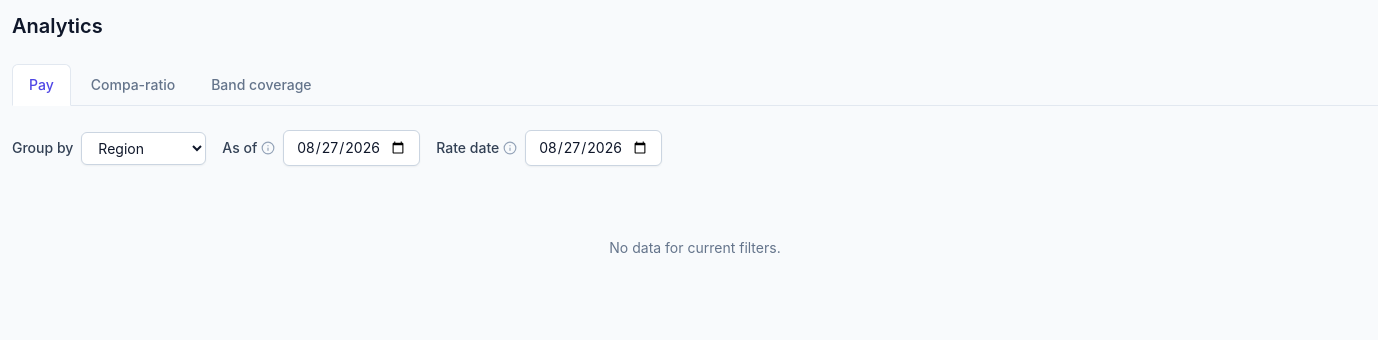
Scenario: AnalyticsDashboard › switches to band coverage tab
The width and height of the screenshot is (1378, 340).
Click the button "Band coverage": [261, 84] box [195,64,328,105]
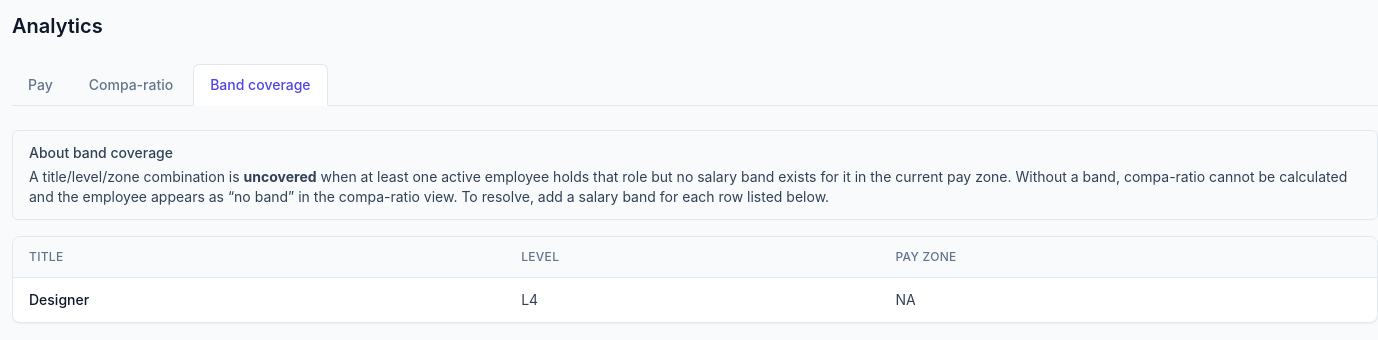
Result: the text "Designer" is shown at [13,278,505,322]
Result: the text "L4" is shown at [505,278,880,322]
